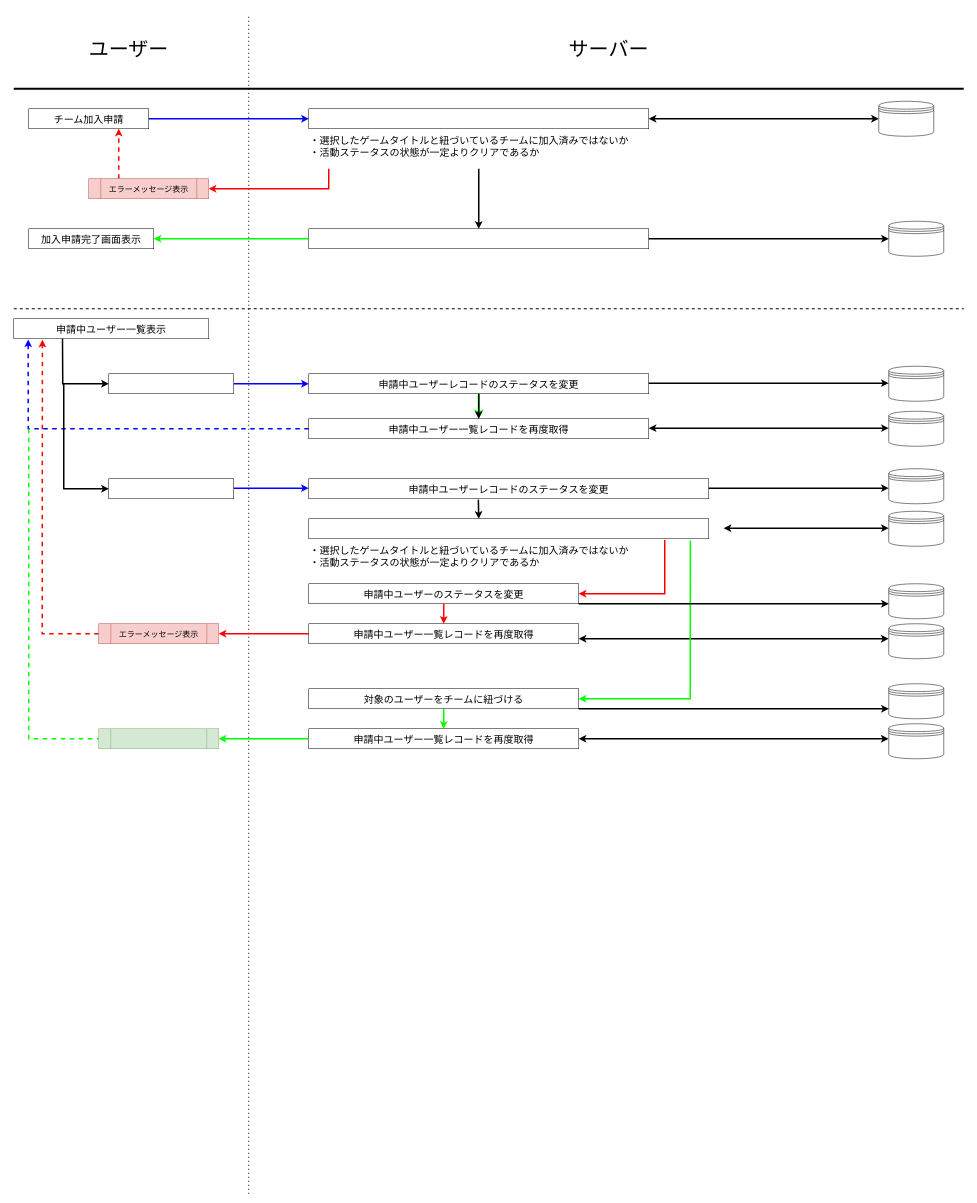
The diagram is 977 pixels wide and 1203 high, and some of its shapes have lost their labels. Here are the shapes that lost their labels. From the top down, the centre of each, then its label:
At (x=478, y=118): "加入可否チェック".
At (x=478, y=238): "申請先のチームに紐づける形で、申請中ユーザーレコードを作成".
At (x=171, y=383): "申請拒否".
At (x=171, y=488): "申請許可".
At (x=508, y=528): "チームへの紐付け可否チェック".
At (x=158, y=738): "サクセスメッセージ表示".
